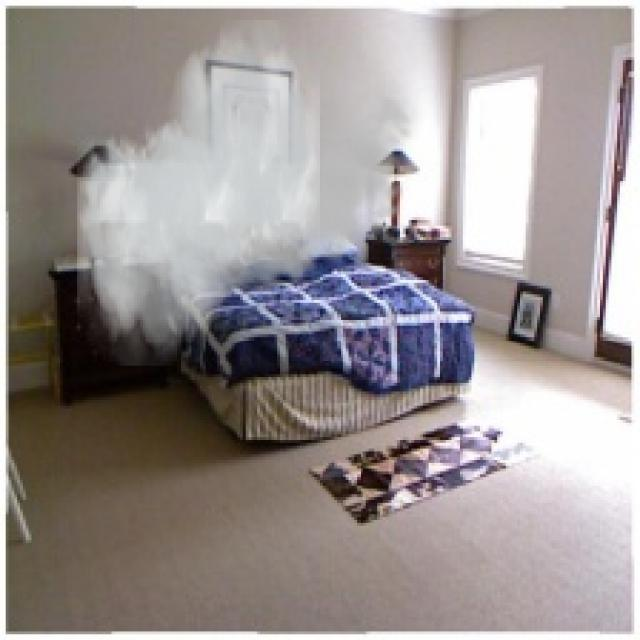smoke: (77, 20, 423, 366)
